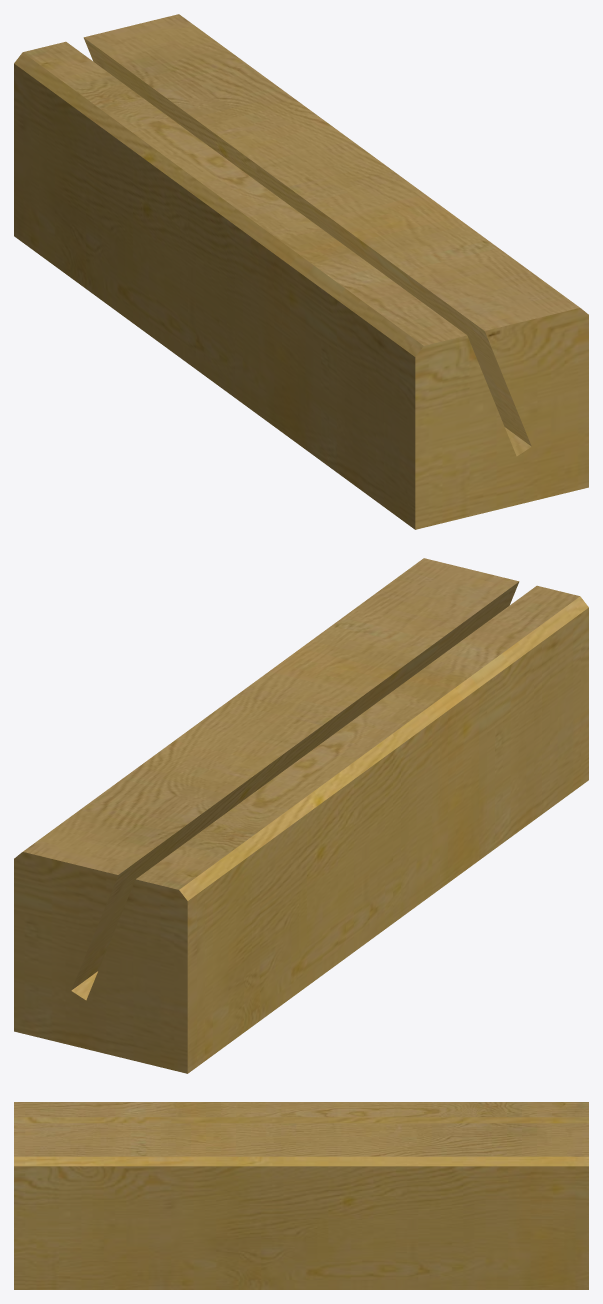
The model's file is bases-de-foto.glb.
The picture shows the model from 3 angles, top to bottom: view 1: azimuth 30°, elevation 25°; view 2: azimuth 150°, elevation 25°; view 3: azimuth 270°, elevation 25°; orthographic projection. The views are drawn at different scales.
Size of the model in its own units: 0.02 by 0.02 by 0.08.
2 materials, 2 textured.
